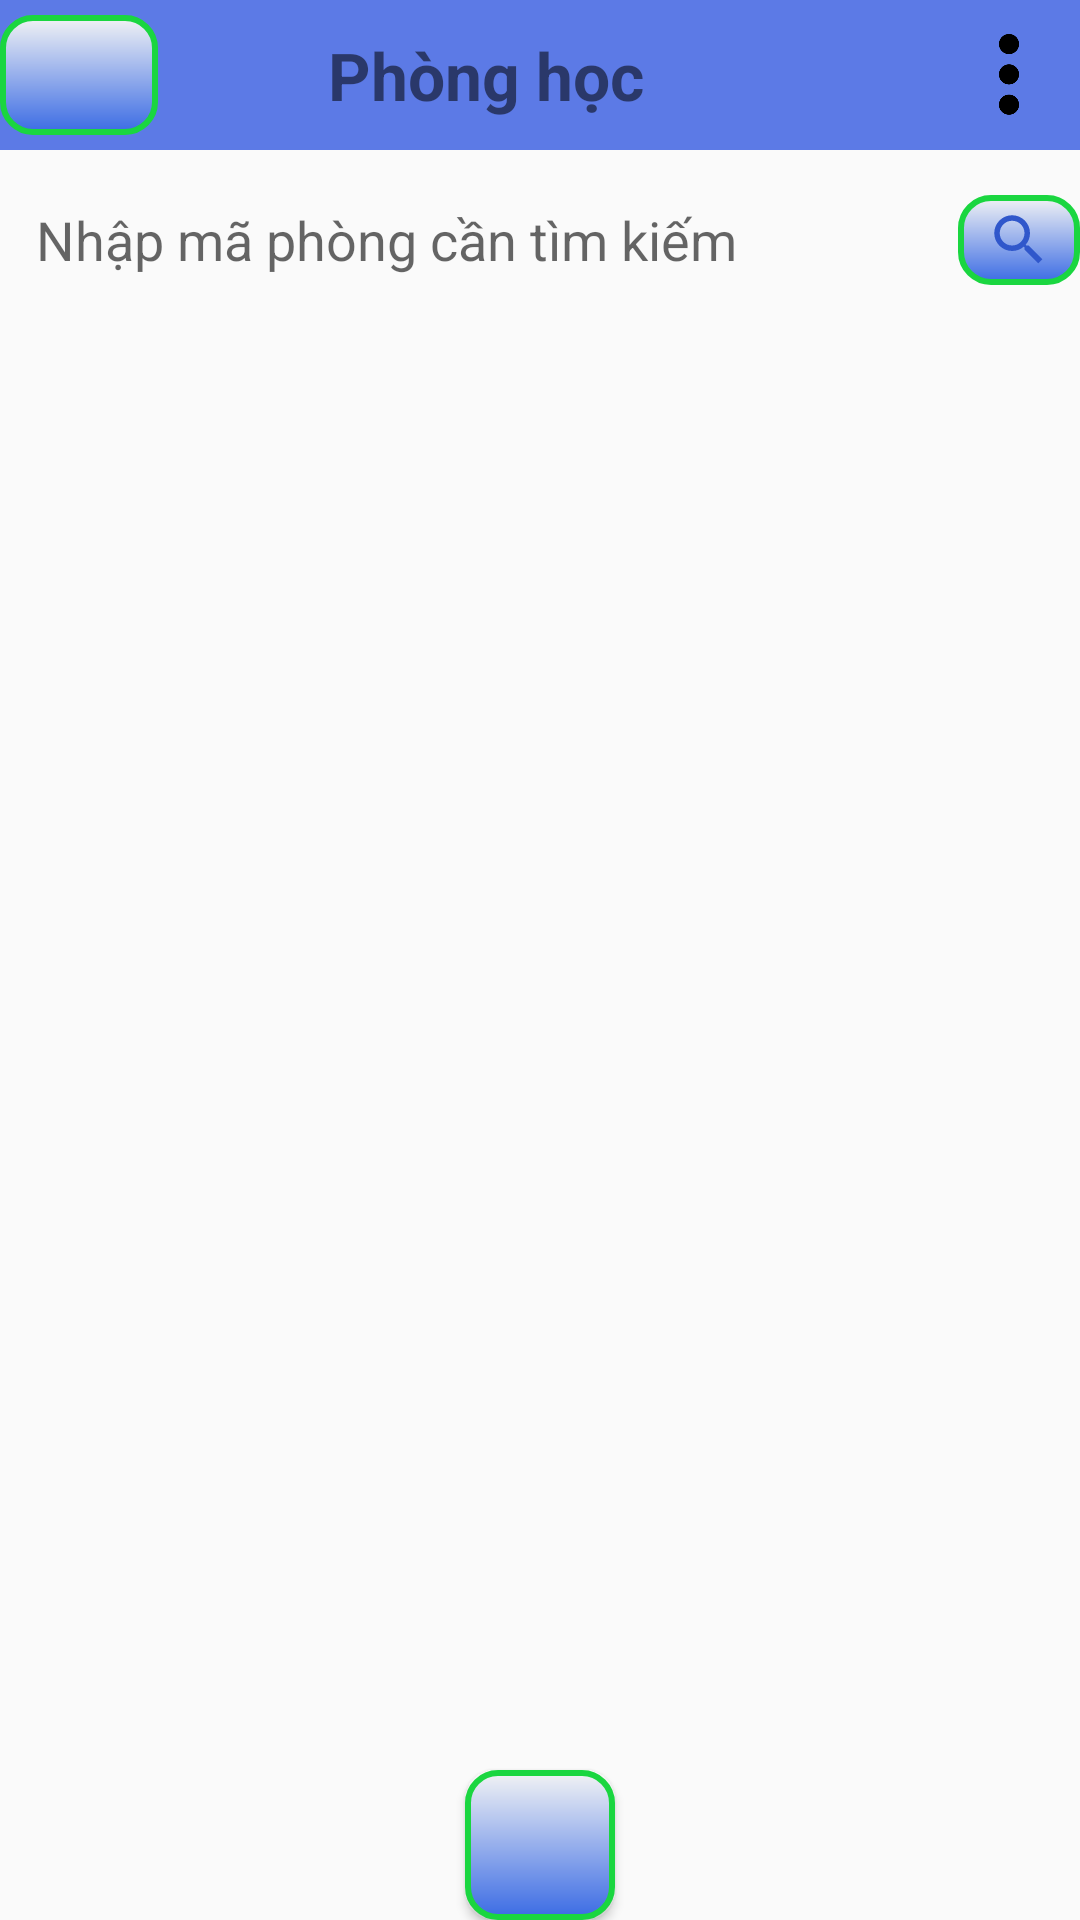

Named icons in this screenshot (1080*1920) and their bounding boxes, detection(x1, y1, x2, y2):
menu: detection(999, 34, 1019, 115)
